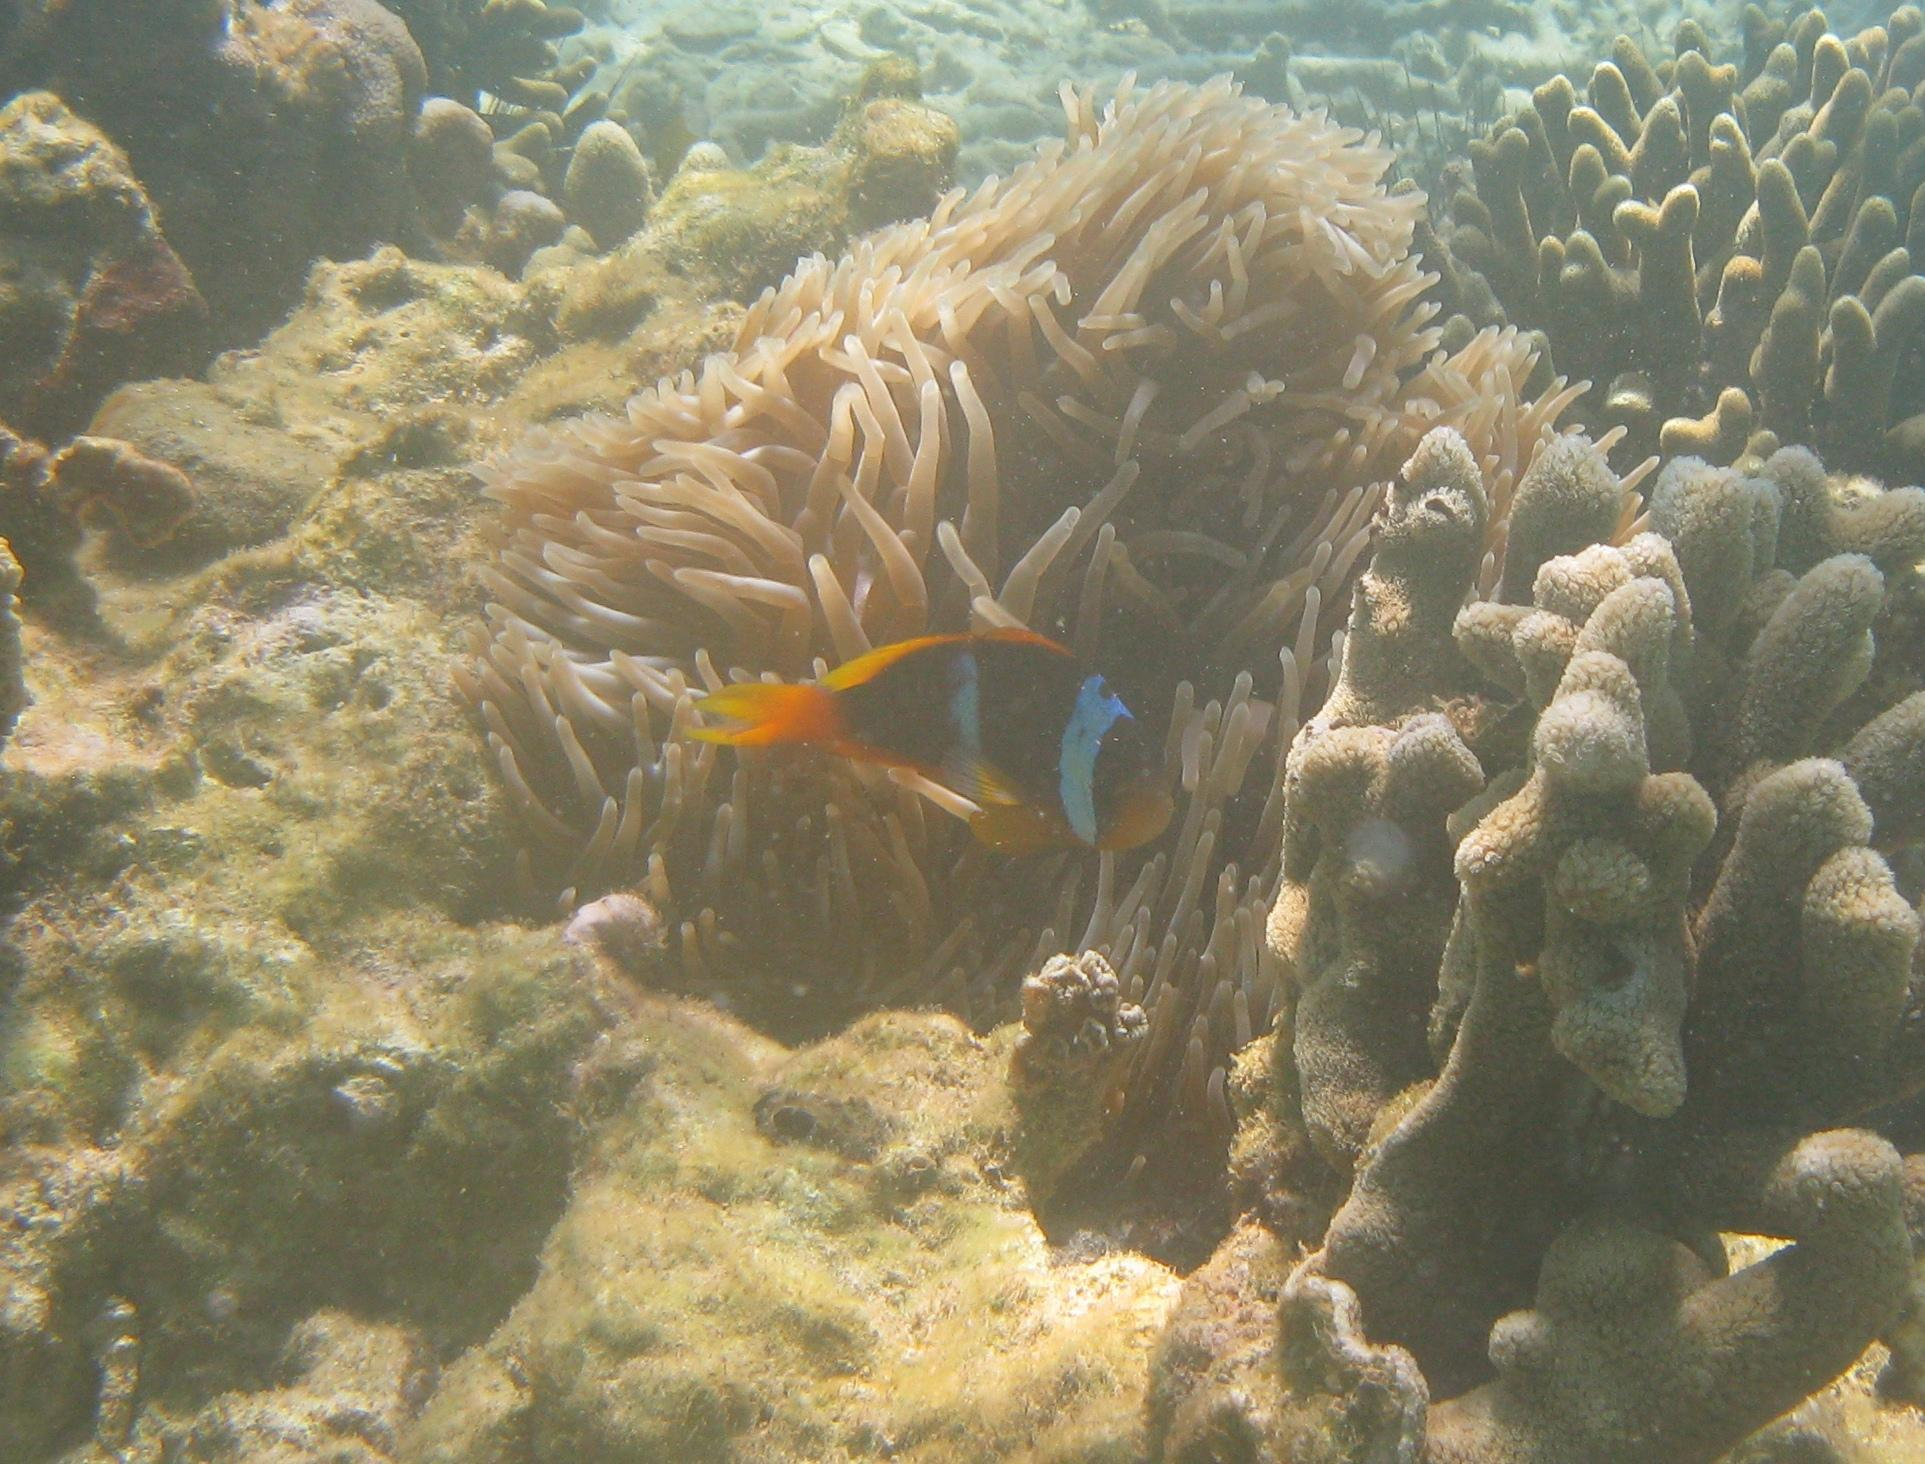Fish: (653, 578, 1207, 926)
